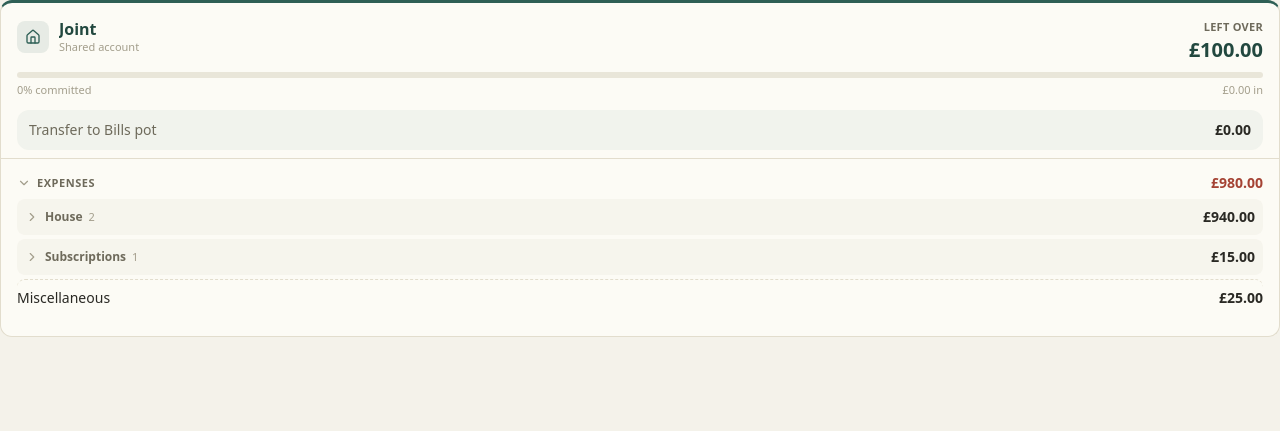
Test: OwnerCard category grouping › expands a group on click to reveal its items, and collapses it again
Click the text "House" at (60, 217), box [25, 209, 95, 225]
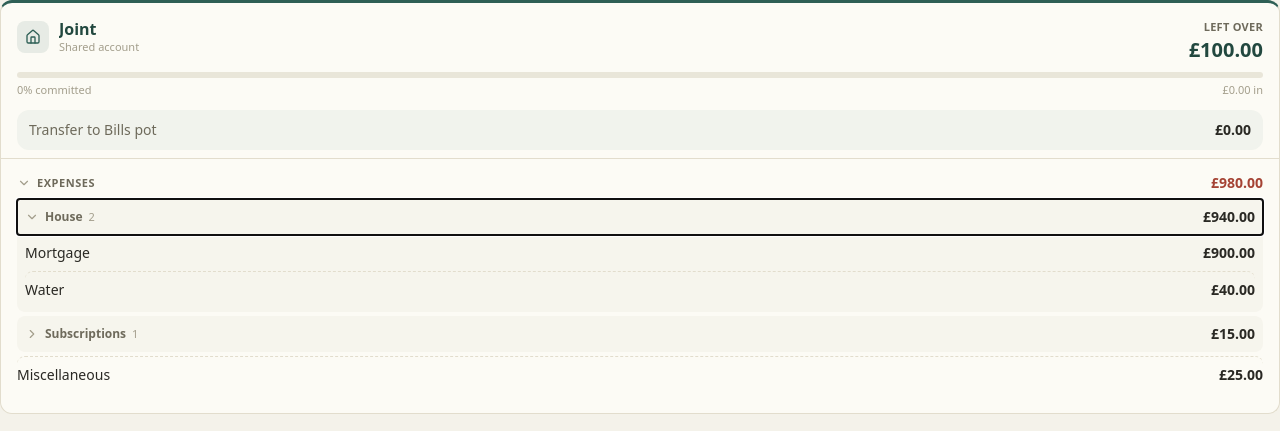
expect the text "Mortgage" is shown: met, box [25, 243, 90, 263]
expect the text "Water" is shown: met, box [25, 280, 64, 300]
Click the text "House" at (60, 217), box [25, 209, 95, 225]
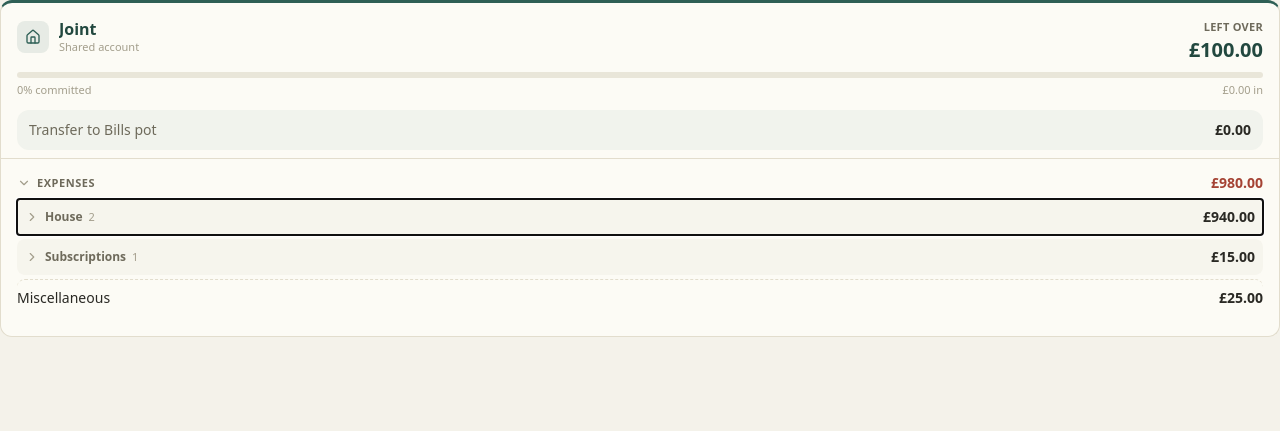
expect the button "Mortgage" is gone: met
